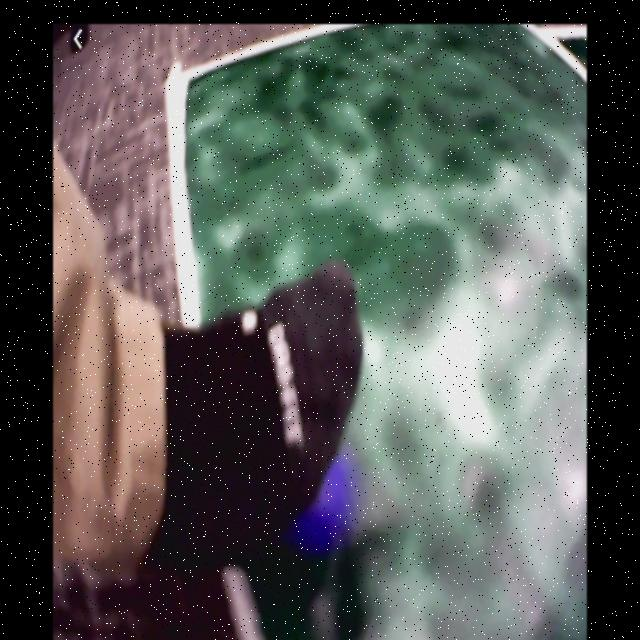ball: (288, 449, 353, 554)
